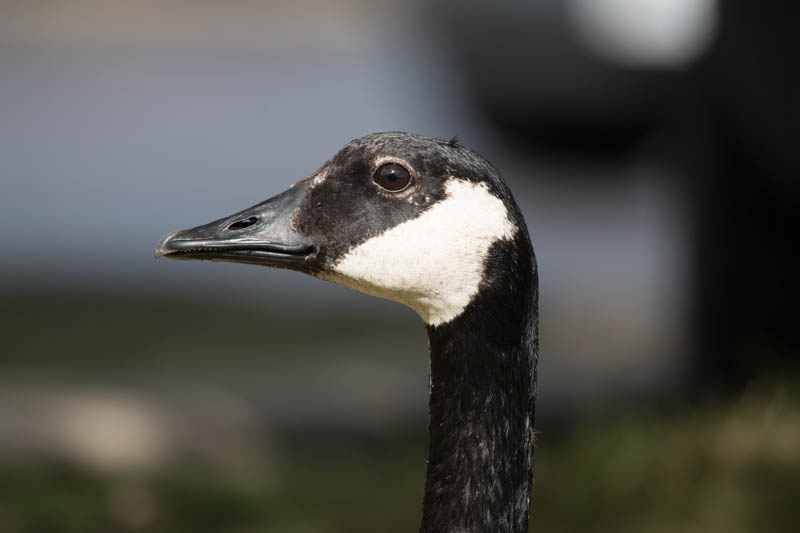goose-head: (151, 131, 538, 326)
